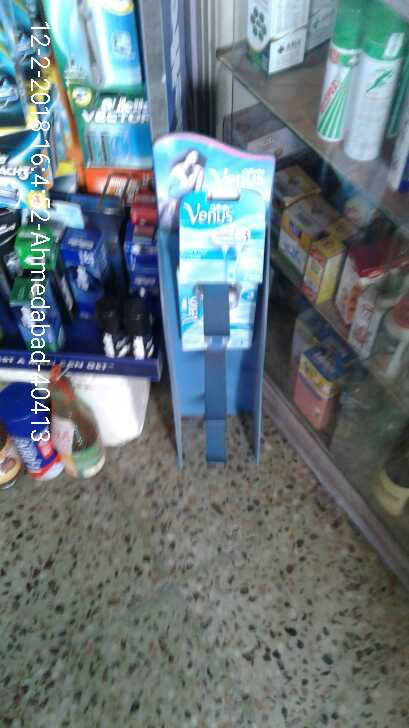beauty: (172, 190, 266, 284), (69, 86, 152, 170)
